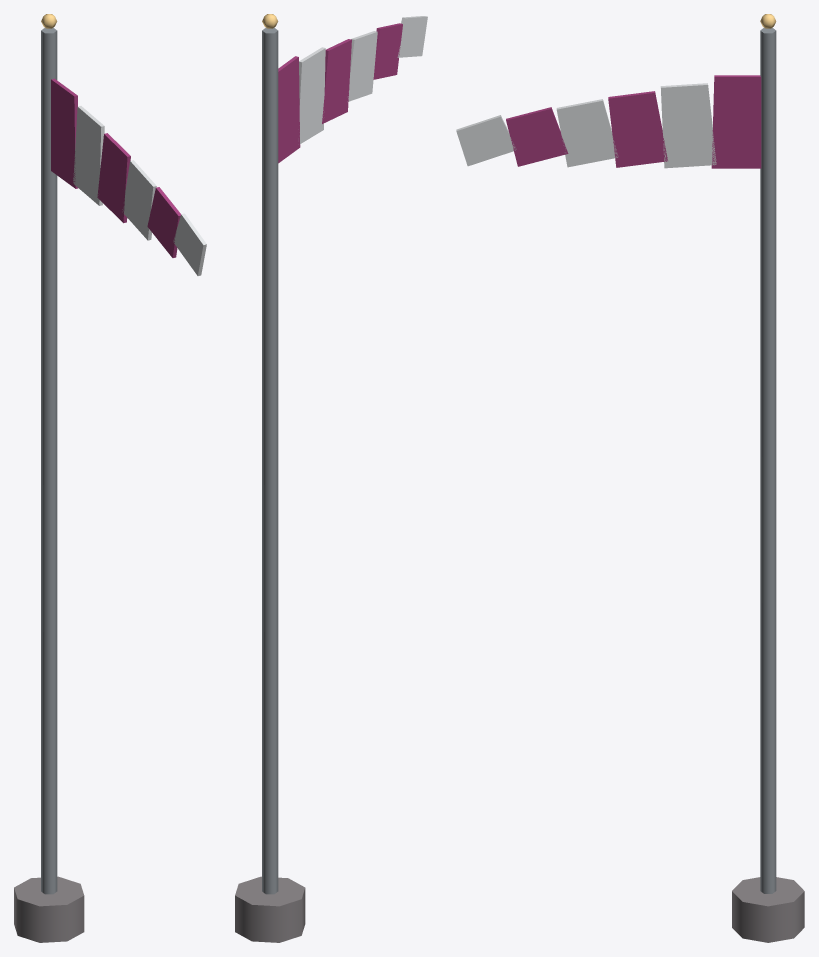
File: wind_flag.glb
3 renders of one model, left to right at view 1: azimuth 30°, elevation 25°; view 2: azimuth 150°, elevation 25°; view 3: azimuth 270°, elevation 25°, orthographic.
Parts seen in each view (by area): view 1: steel, iron, banner, medic, banner.001, medic.001, banner.002, medic.002; view 2: steel, iron, medic, banner, banner.001, medic.001, banner.002, medic.002; view 3: steel, banner, medic, iron, banner.001, medic.001, banner.002, medic.002.
Part boxes in pixels (x1=…): steel: x1=41, y1=27, x2=57, y2=894; iron: x1=14, y1=876, x2=84, y2=942; banner: x1=51, y1=78, x2=78, y2=188; medic: x1=73, y1=106, x2=104, y2=205; banner.001: x1=97, y1=133, x2=130, y2=223; medic.001: x1=122, y1=160, x2=156, y2=240; banner.002: x1=147, y1=187, x2=180, y2=257; medic.002: x1=173, y1=213, x2=206, y2=275; steel: x1=262, y1=27, x2=278, y2=894; iron: x1=235, y1=876, x2=305, y2=942; medic: x1=299, y1=47, x2=325, y2=143; banner: x1=278, y1=56, x2=300, y2=163; banner.001: x1=322, y1=39, x2=351, y2=123; medic.001: x1=347, y1=31, x2=377, y2=101; banner.002: x1=373, y1=23, x2=402, y2=79; medic.002: x1=397, y1=16, x2=427, y2=57; steel: x1=760, y1=28, x2=776, y2=893; banner: x1=711, y1=75, x2=761, y2=168; medic: x1=660, y1=83, x2=716, y2=168; iron: x1=732, y1=877, x2=804, y2=942; banner.001: x1=608, y1=91, x2=667, y2=167; medic.001: x1=556, y1=99, x2=618, y2=167; banner.002: x1=506, y1=107, x2=568, y2=166; medic.002: x1=456, y1=115, x2=516, y2=166.
Size of the model in its own units: 0.36 by 4.99 by 1.72.
